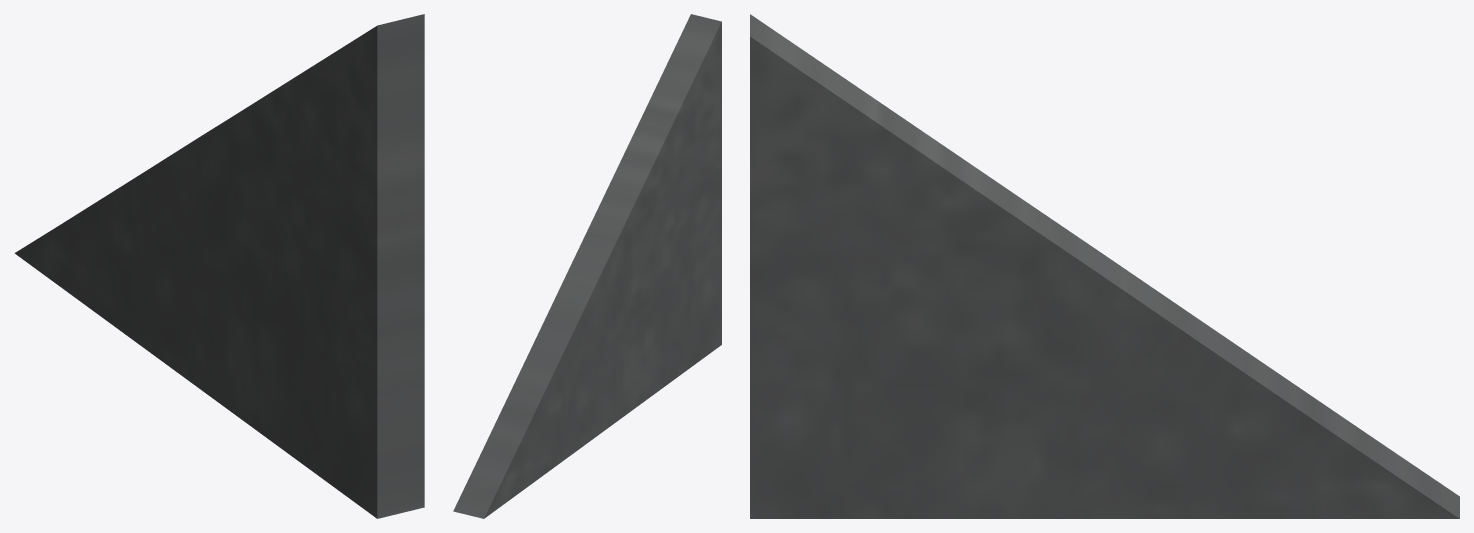
Rendered from wall 60.fbx.
The picture shows the model from 3 angles, left to right: view 1: azimuth 30°, elevation 25°; view 2: azimuth 150°, elevation 25°; view 3: azimuth 270°, elevation 25°; orthographic projection. The views are drawn at different scales.
Visible parts, largest first — view 1: Plane.019; view 2: Plane.019; view 3: Plane.019.
Boxes of the visible parts, <box> form: Plane.019: <box>14,14,424,518</box>; Plane.019: <box>453,14,721,518</box>; Plane.019: <box>750,14,1459,518</box>.
Size of the model in its own units: 15 by 150 by 200.
